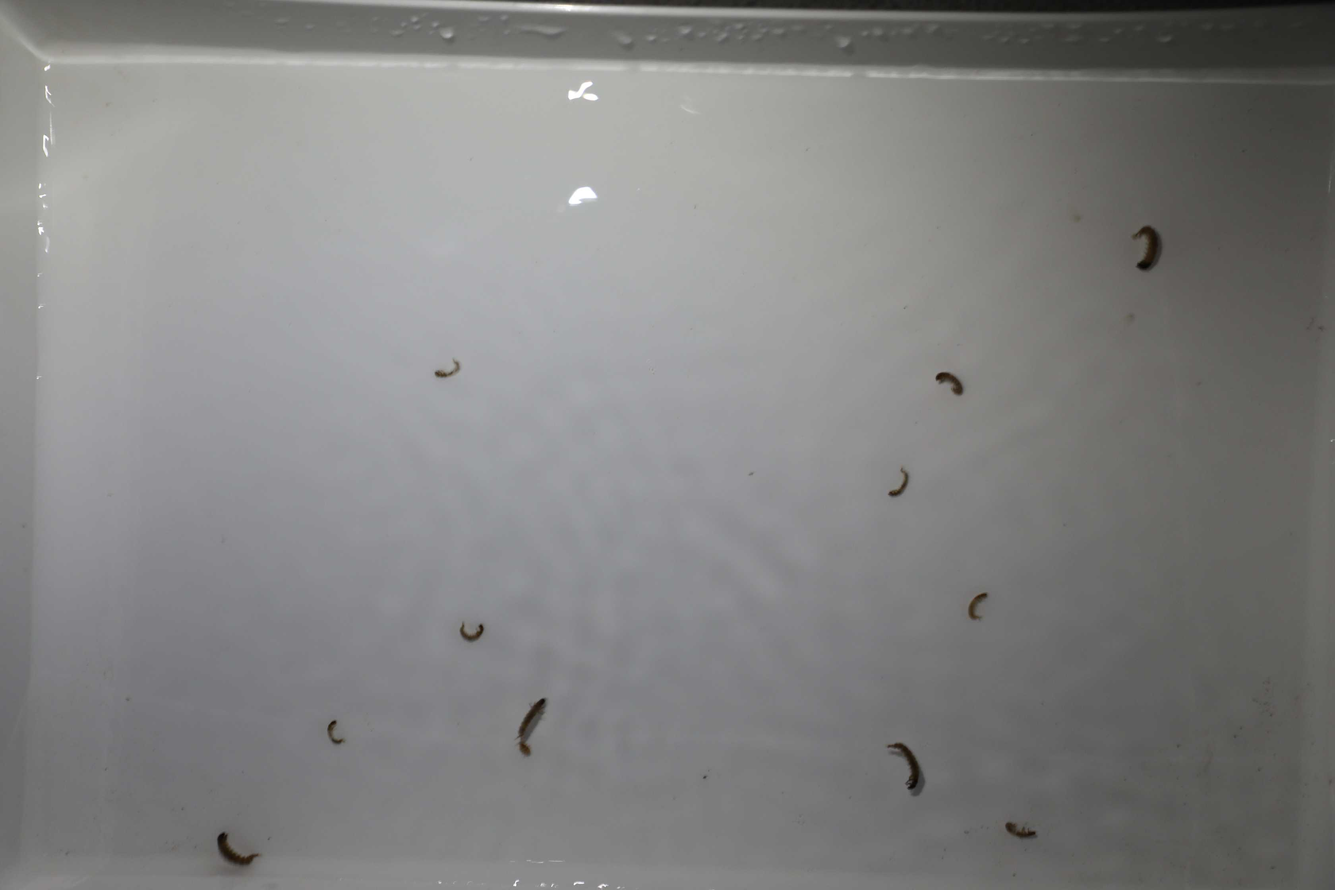Cadisfly: (887, 735, 926, 796), (210, 827, 256, 869), (1131, 218, 1162, 276), (517, 695, 550, 743), (930, 367, 971, 403), (454, 616, 492, 652), (999, 811, 1039, 844), (883, 462, 915, 500), (428, 353, 466, 380), (319, 718, 348, 748), (968, 588, 992, 624), (514, 743, 533, 766)
